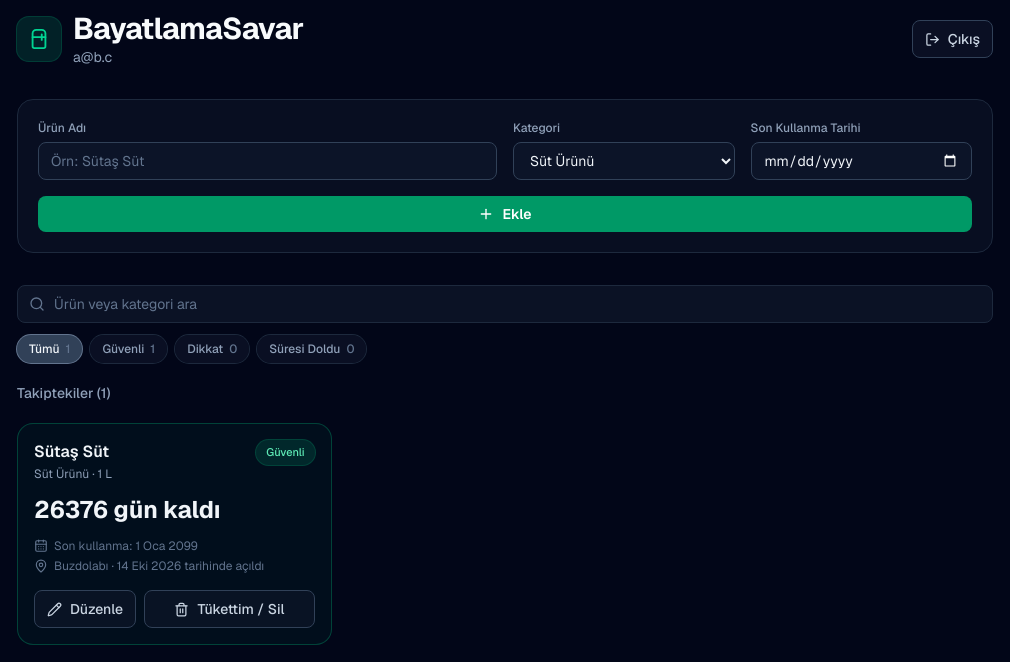
Test: Ana sayfa — bütünleşme › ürün ekle akışı: form gönderilir, ürün listede görünür
Expected: the heading "Sütaş Süt" is shown, top-left (34, 440), bottom-right (112, 464)
Type "Pınar Labne" into the field labelled "Ürün Adı".
click(268, 161); type("Pınar Labne")  # box top-left (38, 142), bottom-right (497, 180)
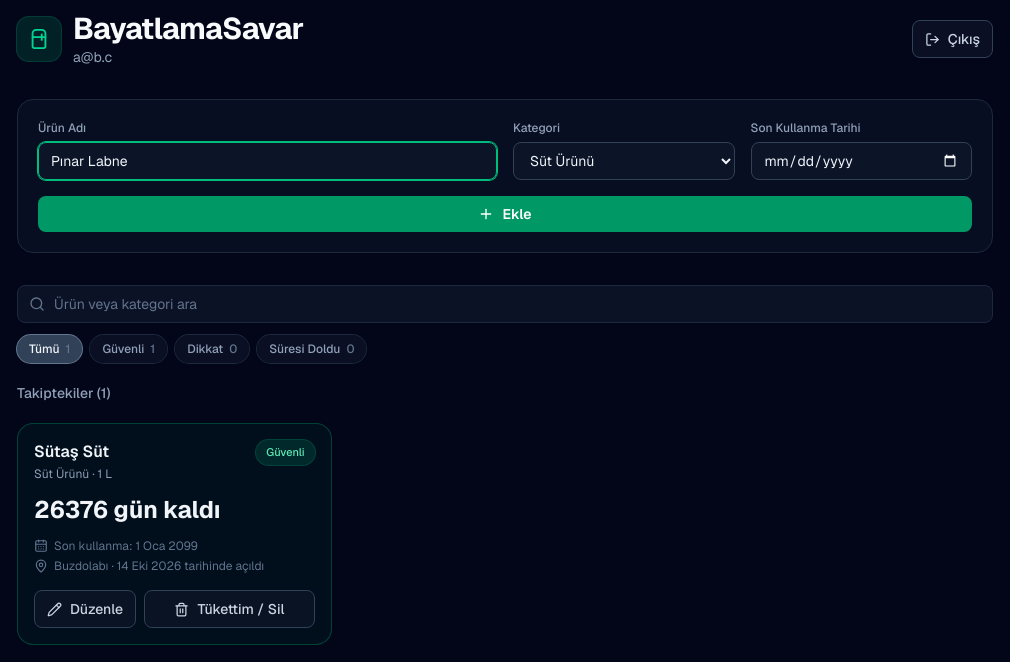
Type "2099-01-01" into the date field labelled "Son Kullanma Tarihi".
click(861, 161); type("2099-01-01")  # box top-left (750, 142), bottom-right (972, 180)
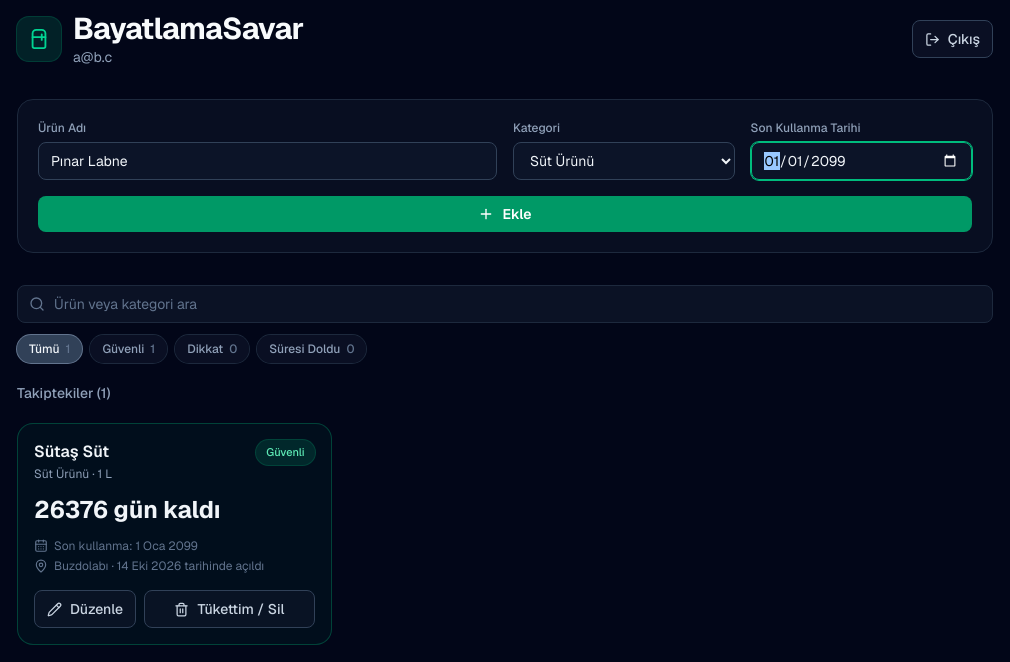
Click the button "Ekle".
click(505, 214)  # box top-left (38, 196), bottom-right (972, 232)
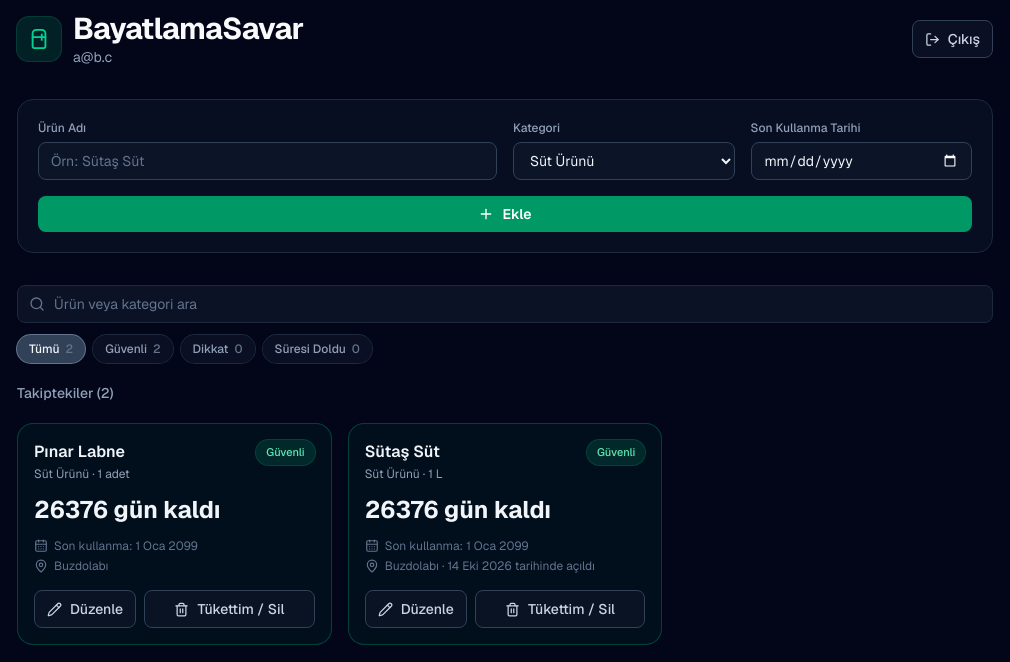
Expected: the heading "Pınar Labne" is shown, top-left (34, 440), bottom-right (130, 464)
